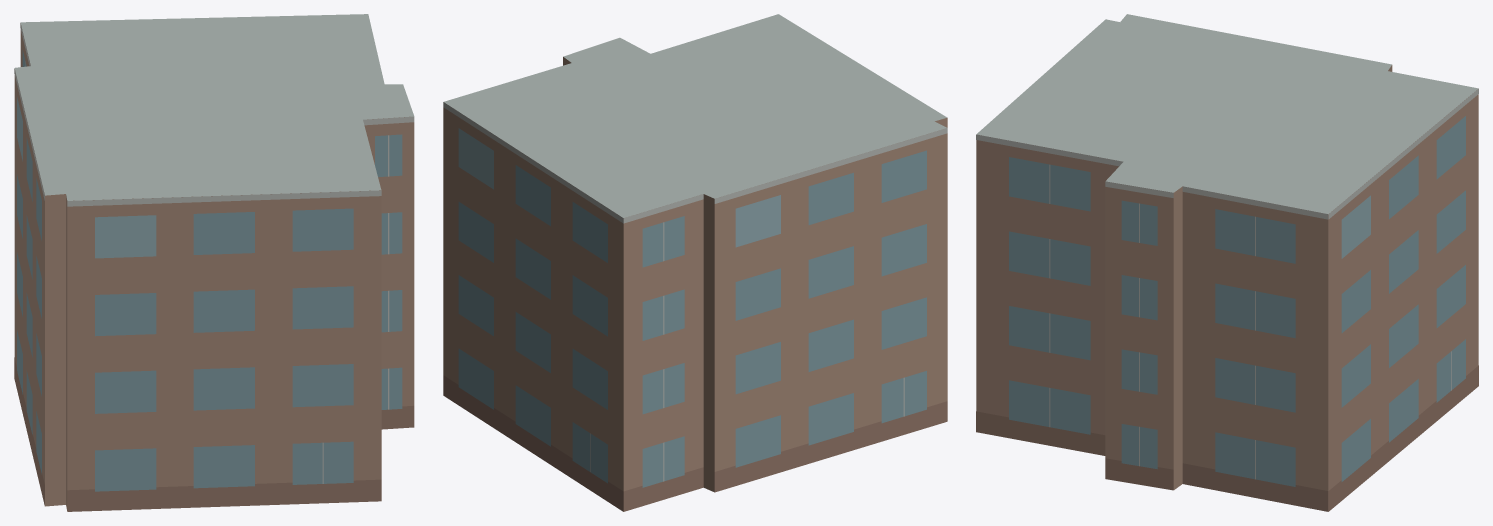
The model's file is survey-upis-33002804.glb.
The picture shows the model from 3 angles, left to right: view 1: azimuth 30°, elevation 25°; view 2: azimuth 150°, elevation 25°; view 3: azimuth 270°, elevation 25°; orthographic projection. The views are drawn at different scales.
Parts seen in each view (by area): view 1: survey-upis-33002804.tmp; view 2: survey-upis-33002804.tmp; view 3: survey-upis-33002804.tmp.
Part boxes in pixels (x1,y1,x2,y2): survey-upis-33002804.tmp: (14,14,414,511); survey-upis-33002804.tmp: (443,14,947,511); survey-upis-33002804.tmp: (976,14,1478,511).
Size of the model in its own units: 19.19 by 13.3 by 20.36.
